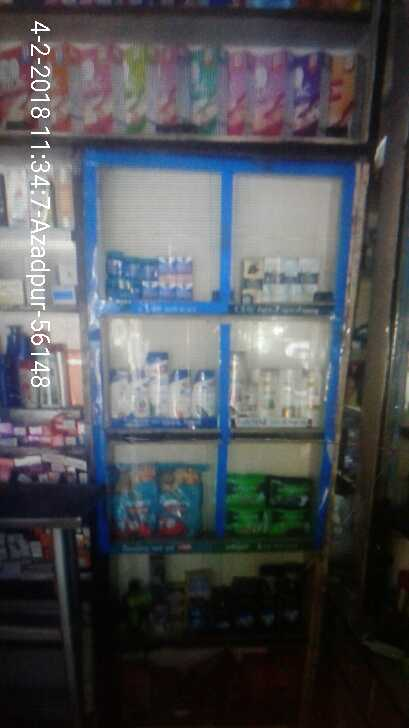vicks: (106, 255, 200, 301)
